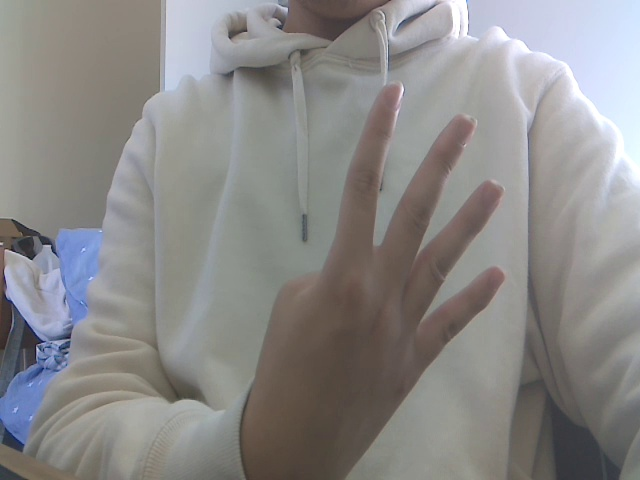hand_gesture_4: (248, 63, 530, 480)
